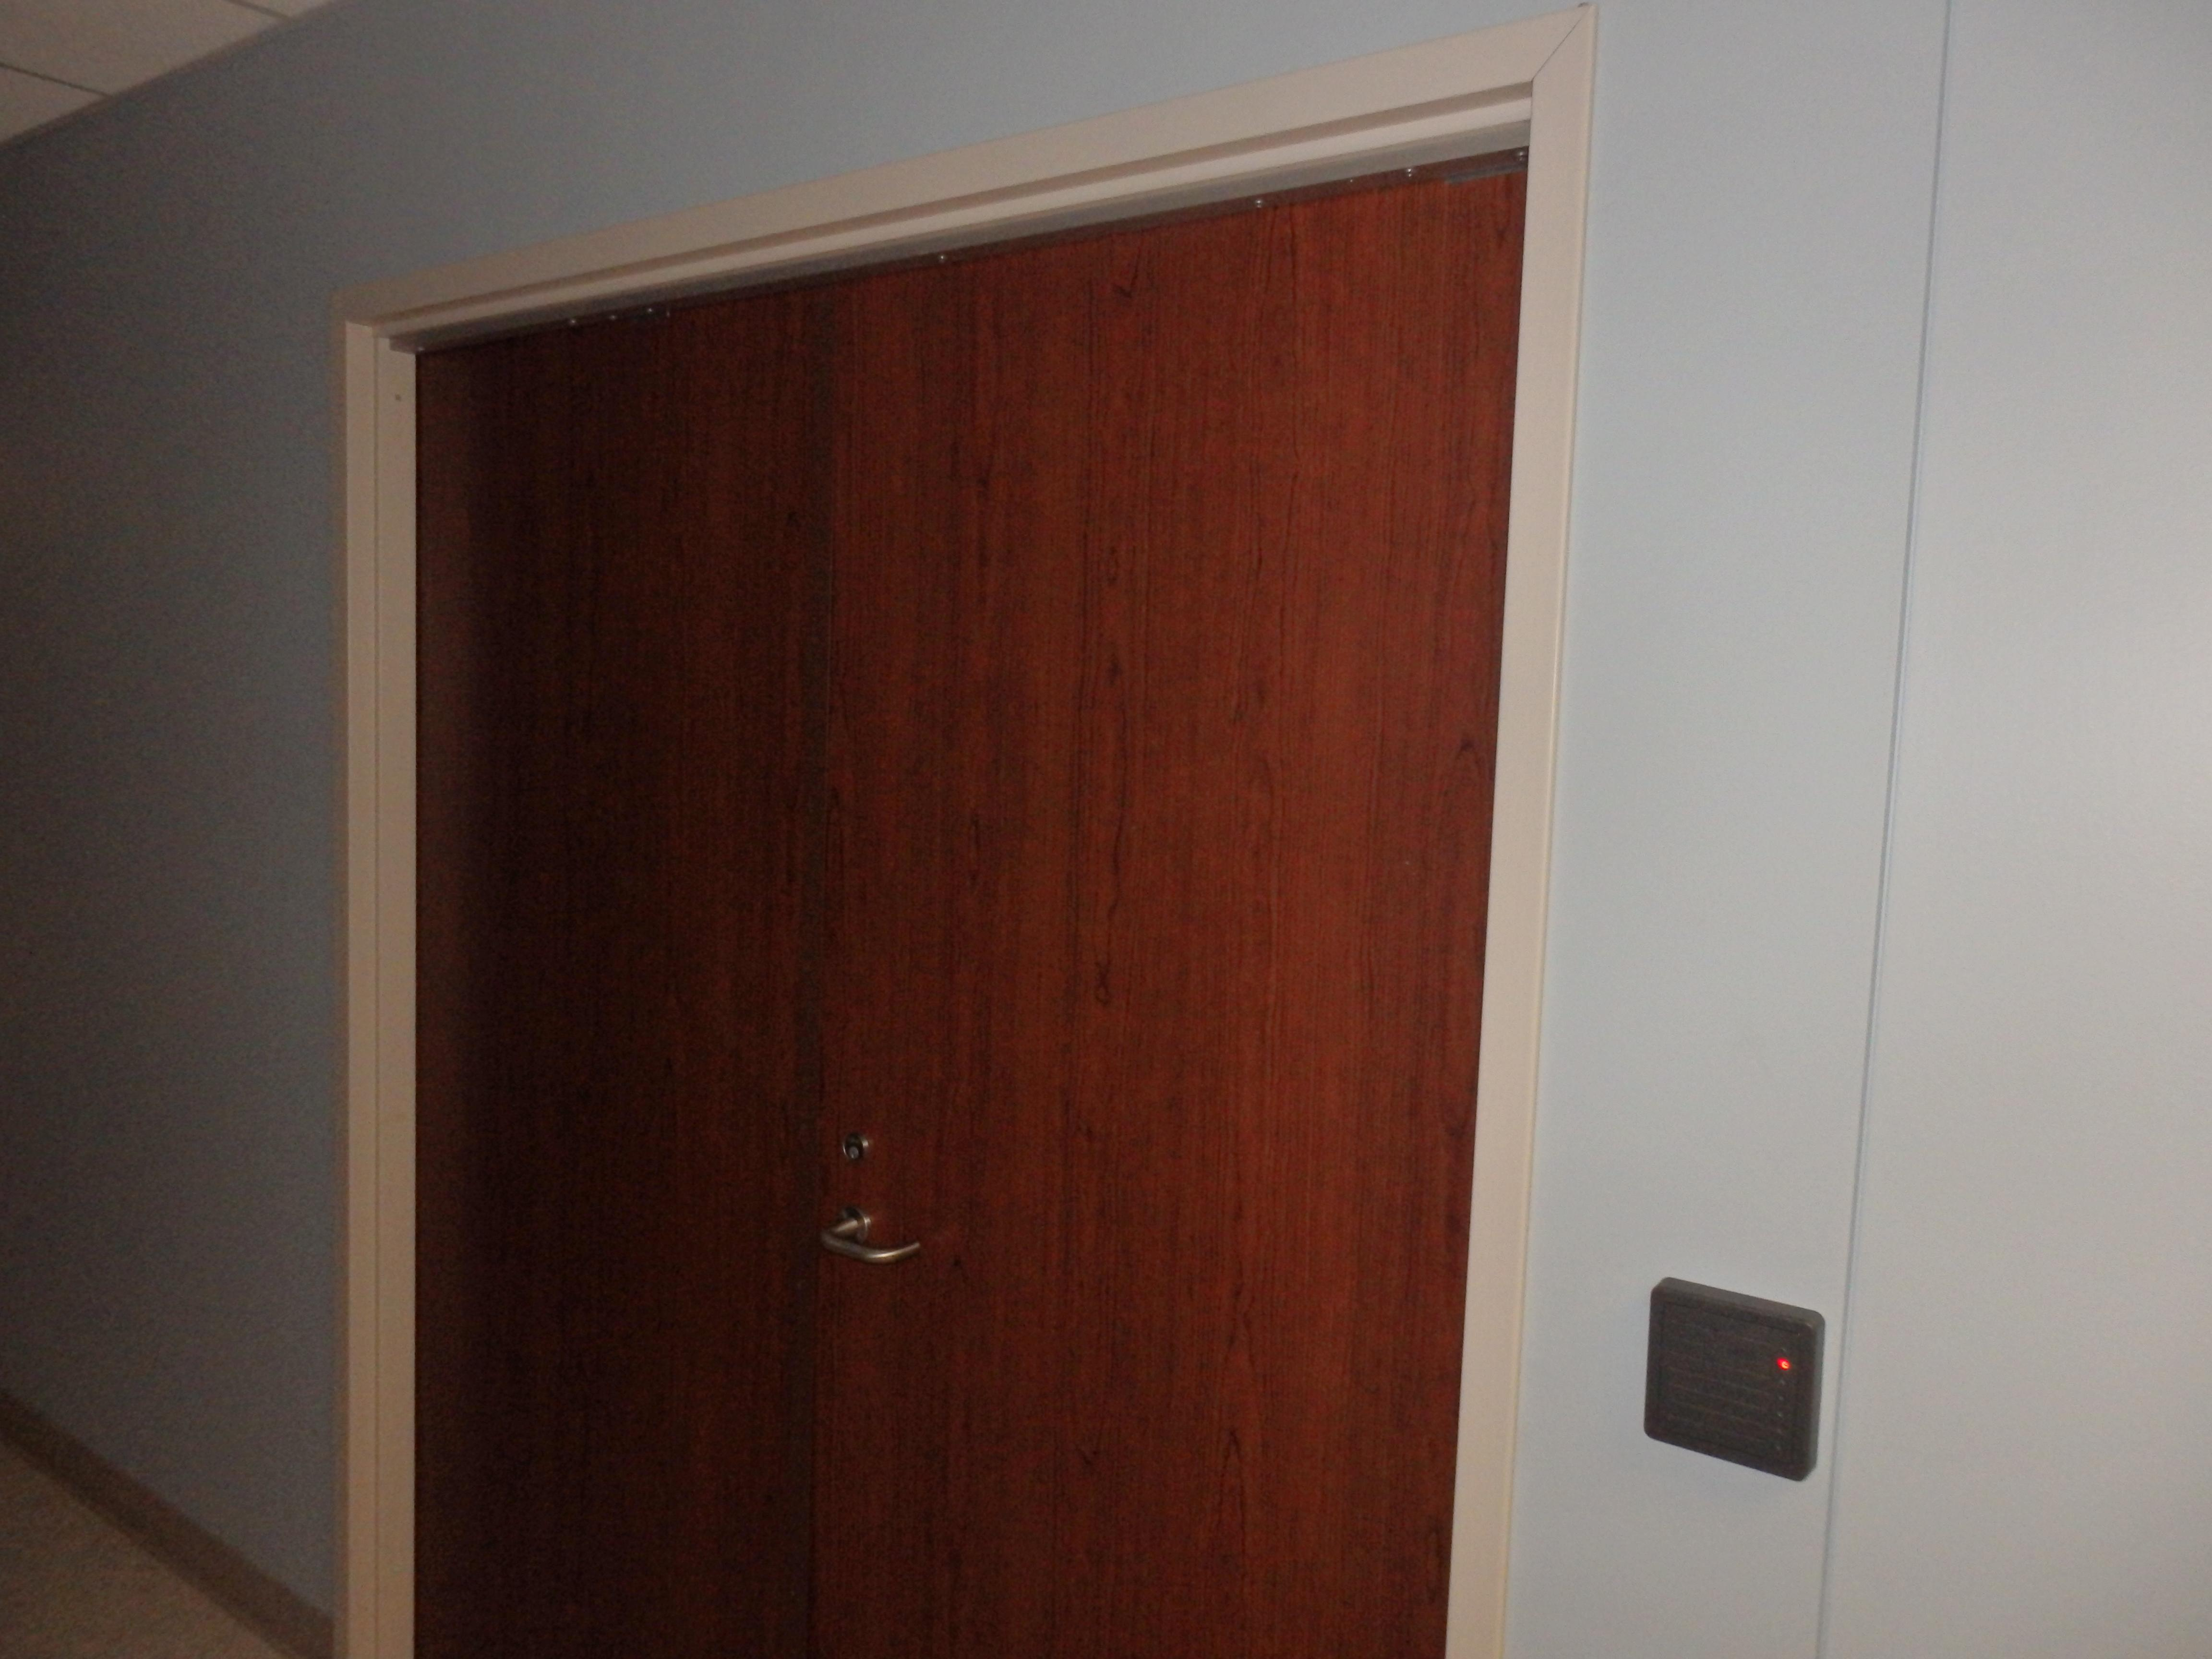door: (334, 0, 1594, 1657)
